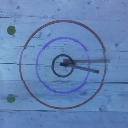Axe Tip: (62, 61, 72, 64)
